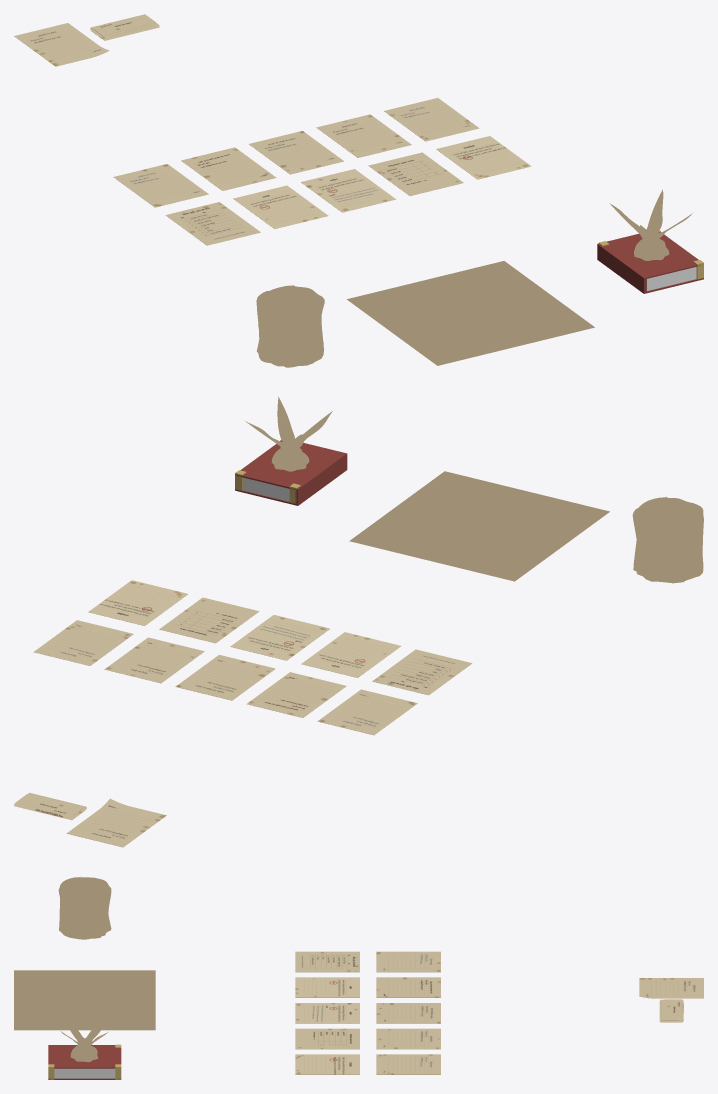
The model's file is PROPS_Documents.fbx.
3 views of the same model, one above another, from view 1: azimuth 30°, elevation 25°; view 2: azimuth 150°, elevation 25°; view 3: azimuth 270°, elevation 25° (orthographic). The views are drawn at different scales.
Visible parts, largest first — view 1: DOC • potli_open, DOC • potli_tied, DOC • statement_2, DOC • order_original, DOC • order_returned, DOC • statement_3, DOC • statement_4, DOC • statement_6, DOC • death_tally, DOC • royal_decree, DOC • statement_5, DOC • arrival_list (+6 smaller); view 2: DOC • potli_open, DOC • potli_tied, DOC • statement_1, DOC • arrival_list, DOC • statement_3, DOC • death_tally, DOC • royal_decree, DOC • statement_2, DOC • statement_5, DOC • statement_6, DOC • order_original, DOC • order_returned (+5 smaller); view 3: DOC • potli_open, DOC • potli_tied, DOC • arrival_list, DOC • death_tally, DOC • statement_2, DOC • statement_5, DOC • order_original, DOC • order_returned, DOC • royal_decree, DOC • statement_3, DOC • statement_4, DOC • statement_6 (+5 smaller).
Part boxes in pixels (x1,y1,x2,y2): DOC • potli_open: [347, 261, 594, 365]; DOC • potli_tied: [256, 285, 324, 367]; DOC • statement_2: [113, 164, 208, 207]; DOC • order_original: [233, 185, 328, 228]; DOC • order_returned: [301, 169, 395, 212]; DOC • statement_3: [181, 147, 276, 190]; DOC • statement_4: [249, 131, 343, 174]; DOC • statement_6: [384, 98, 479, 141]; DOC • death_tally: [368, 152, 463, 195]; DOC • royal_decree: [436, 136, 531, 179]; DOC • statement_5: [316, 114, 411, 157]; DOC • arrival_list: [165, 202, 260, 245]; DOC • potli_open: [349, 471, 609, 581]; DOC • potli_tied: [632, 497, 703, 583]; DOC • statement_1: [66, 798, 166, 847]; DOC • arrival_list: [372, 649, 472, 695]; DOC • statement_3: [246, 672, 346, 717]; DOC • death_tally: [159, 597, 258, 643]; DOC • royal_decree: [88, 580, 188, 625]; DOC • statement_2: [317, 689, 417, 735]; DOC • statement_5: [104, 637, 204, 683]; DOC • statement_6: [33, 620, 133, 665]; DOC • order_original: [301, 632, 400, 677]; DOC • order_returned: [230, 615, 329, 660]; DOC • potli_open: [14, 970, 155, 1030]; DOC • potli_tied: [58, 877, 111, 939]; DOC • arrival_list: [295, 951, 359, 972]; DOC • death_tally: [295, 1028, 359, 1049]; DOC • statement_2: [376, 951, 440, 972]; DOC • statement_5: [376, 1028, 440, 1049]; DOC • order_original: [295, 977, 359, 997]; DOC • order_returned: [295, 1003, 359, 1023]; DOC • royal_decree: [295, 1054, 359, 1074]; DOC • statement_3: [376, 977, 440, 997]; DOC • statement_4: [376, 1003, 440, 1023]; DOC • statement_6: [376, 1054, 440, 1074].
Size of the model in its own units: 1.86 by 0.2961 by 3.41.
16 materials, 12 textured.
